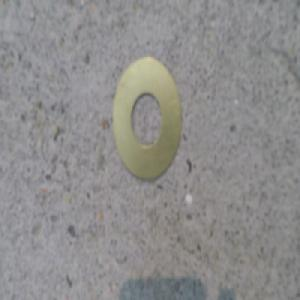Washer: (112, 56, 182, 180)
